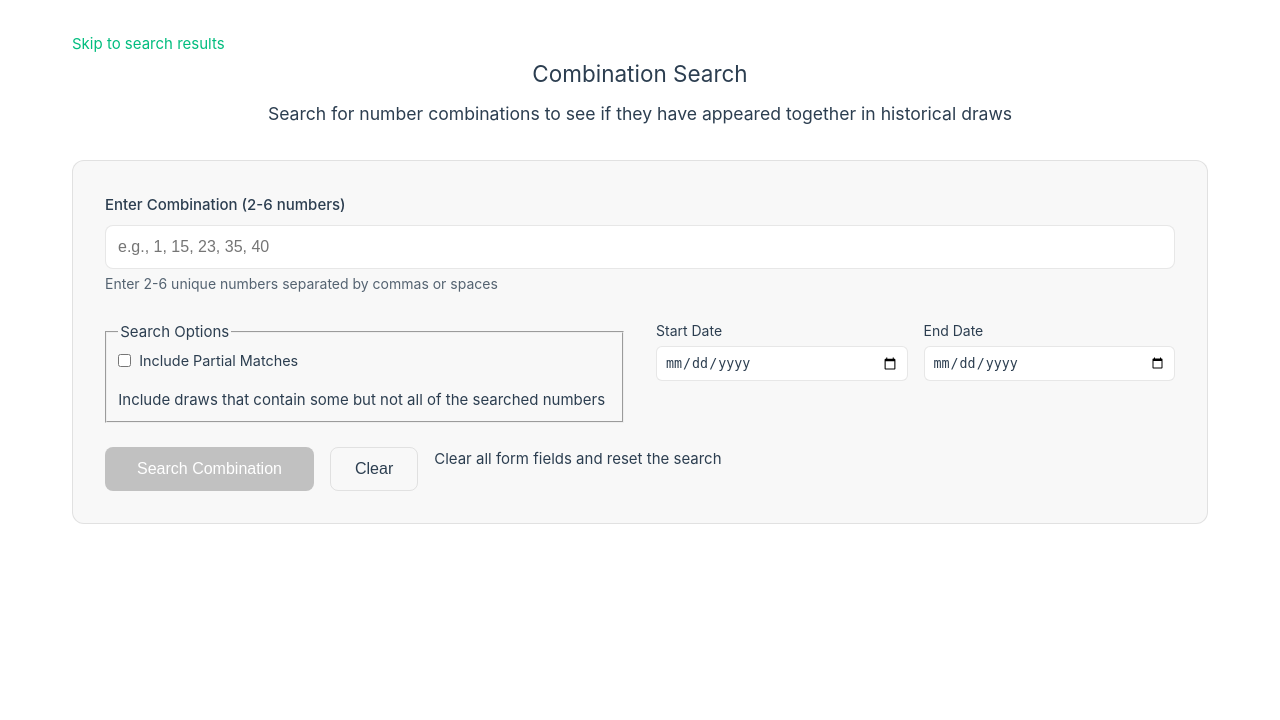
CombinationSearch Accessibility › shows validation errors with proper ARIA attributes
The width and height of the screenshot is (1280, 720).
Type "invalid" into the field with id "combination-input".
click(640, 247); type("invalid")  # box [105,225,1175,269]
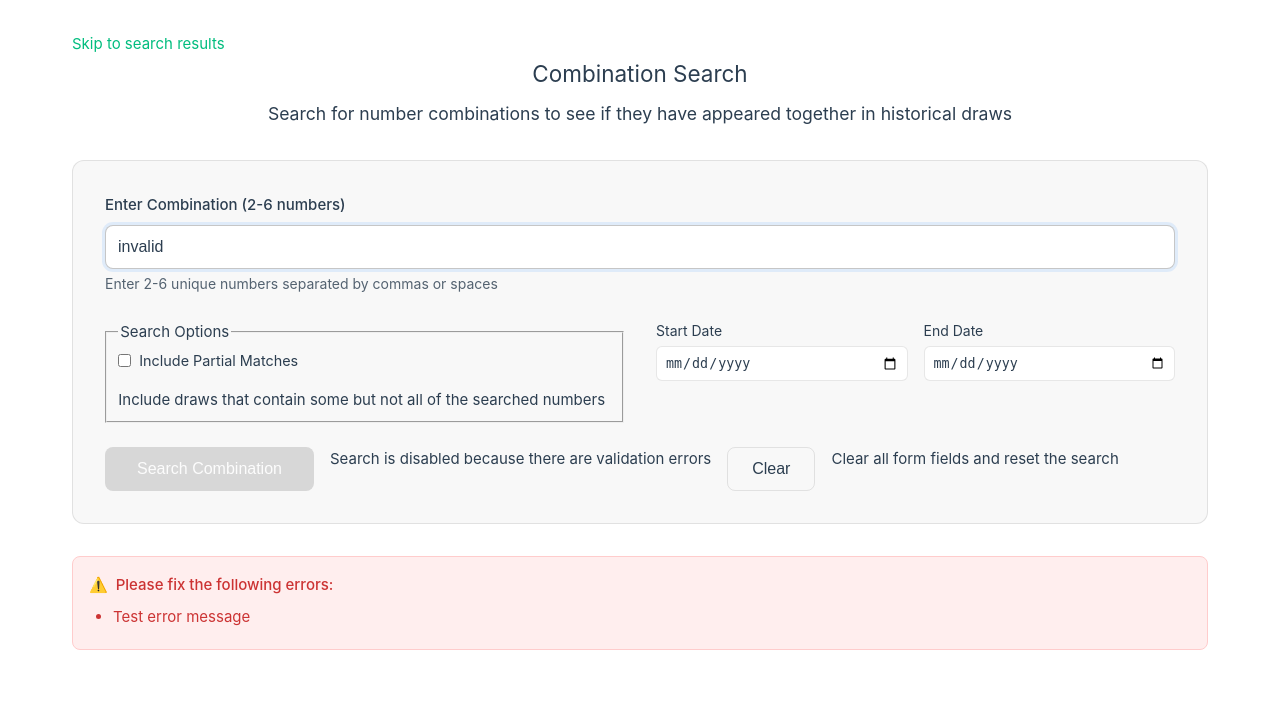
Expected: the message "⚠️ Please fix the following errors: Test error message" is shown, [72,556,1208,650]
